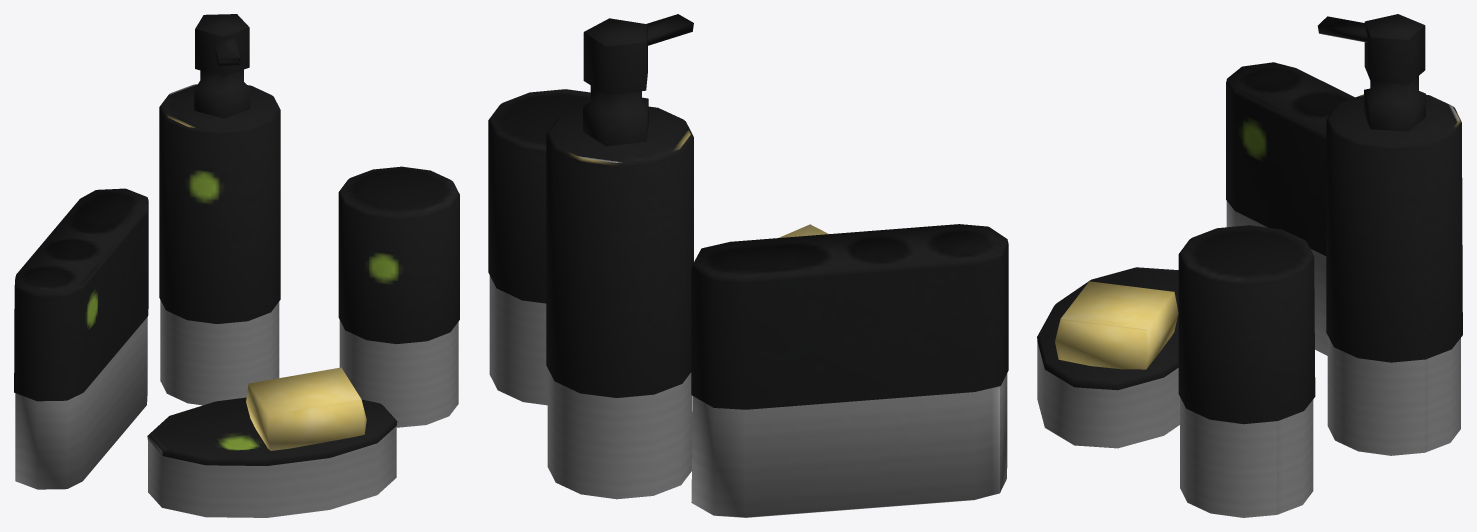
Rendered from BathProps_2.fbx.
3 renders of one model, left to right at view 1: azimuth 30°, elevation 25°; view 2: azimuth 150°, elevation 25°; view 3: azimuth 270°, elevation 25°, orthographic. The views are drawn at different scales.
Visible parts, largest first — view 1: BathProps_2; view 2: BathProps_2; view 3: BathProps_2.
Boxes of the visible parts, x1,y1,x2,y2 form: BathProps_2: (14, 14, 459, 517); BathProps_2: (488, 14, 1008, 517); BathProps_2: (1037, 14, 1462, 517).
Bounding box in the file's own units: 0.2565 × 0.2062 × 0.1984.
